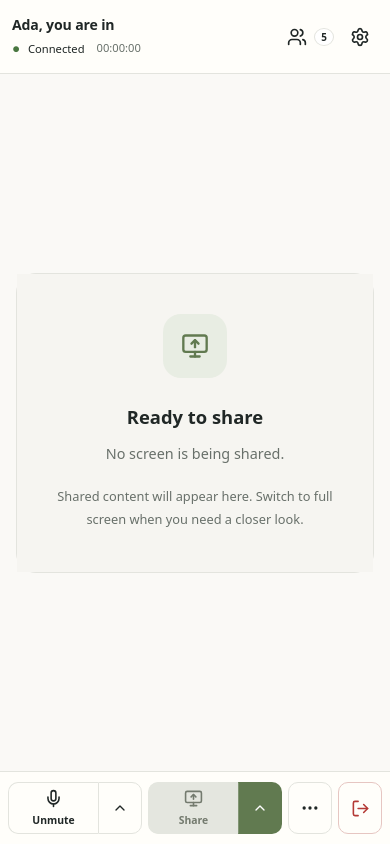
Scenario: meeting room UI › uses a compact top bar and a dedicated stage shell
expect the element with class "meeting-stage-shell" is shown: met, box 16,272 -> 374,572
What coordinates should you click on to do the following:
click the button named "Participants"
I would click on:
 (310, 36)
Its box is 279,16 -> 342,56.
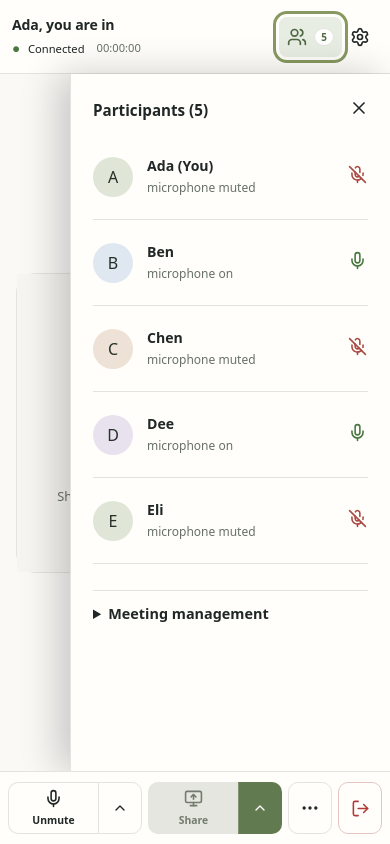
expect the element with class "meeting-management" is shown: met, box 93,590 -> 368,636
